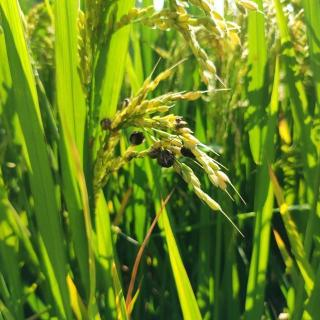Gosong-Palsu: (150, 144, 175, 168), (128, 128, 148, 146), (180, 144, 198, 160)
